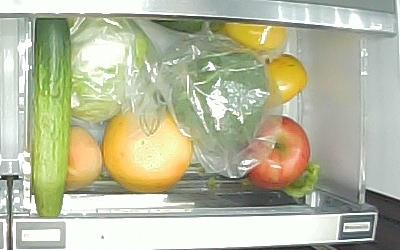apple: (245, 113, 312, 191)
broccoli_vinyl: (170, 42, 270, 147)
cucumber: (32, 18, 68, 217)
grapefruit: (105, 107, 193, 191)
lettuce_vinyl: (68, 18, 152, 122)
paprika_vinyl: (222, 22, 294, 51)
peach: (64, 125, 103, 192)
persimmon: (255, 55, 310, 107)
